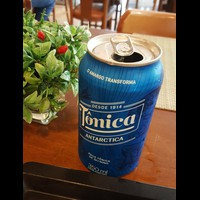tonica: (71, 32, 163, 184)
